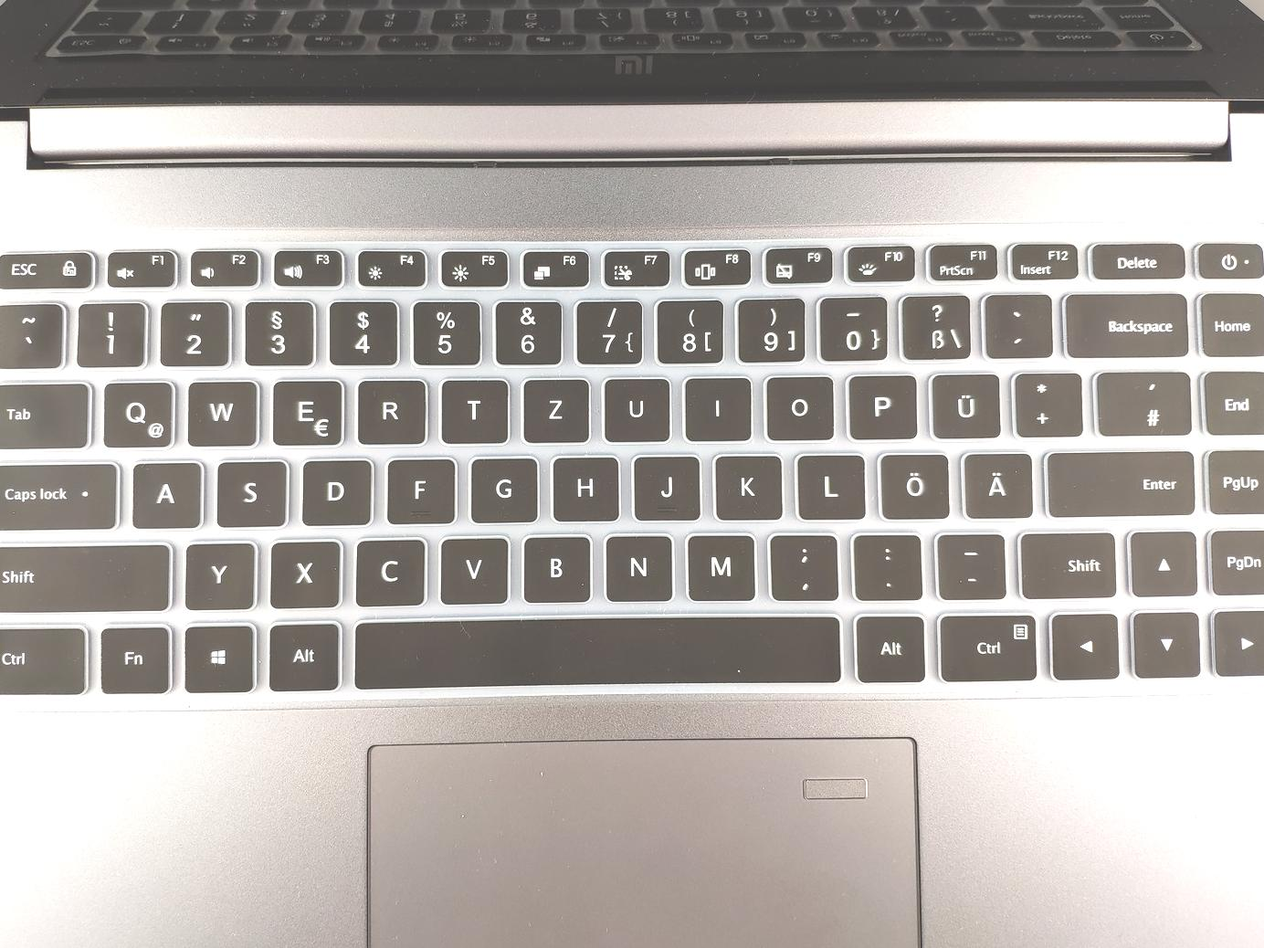0: (814, 290, 887, 360)
1: (72, 297, 145, 365)
2: (155, 296, 229, 366)
3: (239, 296, 313, 364)
4: (325, 296, 397, 363)
5: (407, 296, 480, 363)
6: (490, 296, 562, 363)
7: (572, 296, 641, 363)
8: (651, 295, 723, 363)
9: (732, 293, 805, 362)
a: (130, 457, 202, 528)
accent: (978, 288, 1050, 355)
ae: (958, 448, 1032, 517)
alt-left: (265, 618, 339, 690)
altgr-right: (851, 611, 924, 680)
b: (518, 530, 591, 600)
c: (351, 533, 425, 605)
comma: (765, 528, 837, 598)
d: (297, 454, 371, 524)
del: (1059, 287, 1186, 357)
e: (268, 375, 342, 445)
enter: (1039, 446, 1193, 514)
f: (384, 453, 455, 522)
g: (467, 452, 537, 521)
h: (547, 451, 617, 519)
hash: (1091, 366, 1190, 434)
i: (679, 372, 750, 438)
j: (630, 450, 700, 519)
k: (711, 449, 782, 519)
keyboard: (1, 214, 1264, 708)
l: (792, 448, 865, 518)
m: (681, 529, 754, 599)
minus: (932, 528, 1005, 596)
n: (600, 530, 673, 599)
o: (761, 371, 832, 438)
oe: (875, 448, 949, 518)
p: (843, 370, 915, 437)
plus: (1008, 366, 1080, 435)
point: (848, 528, 921, 597)
q: (98, 376, 173, 447)
r: (353, 374, 426, 443)
s: (213, 456, 287, 525)
shift-left: (1, 536, 170, 611)
shift-lock: (1, 456, 116, 528)
shift-right: (1016, 526, 1116, 596)
space: (345, 611, 838, 685)
ss: (896, 290, 968, 357)
strg-left: (1, 622, 86, 693)
strg-right: (935, 610, 1038, 679)
t: (437, 374, 507, 441)
tab: (1, 377, 87, 447)
u: (599, 374, 669, 440)
ue: (925, 368, 998, 437)
v: (436, 532, 508, 602)
w: (182, 374, 258, 445)
x: (267, 535, 341, 606)
y: (183, 536, 257, 607)
z: (519, 374, 588, 441)
